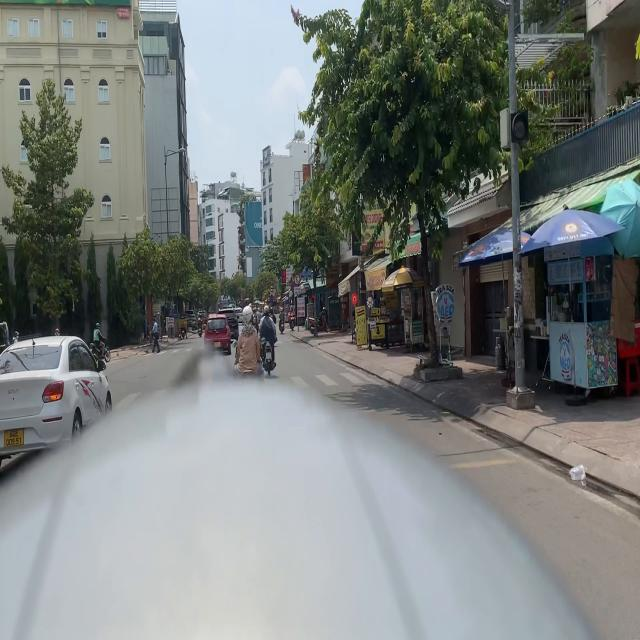Cam con lai: (269, 284, 274, 292)
Cam do: (270, 294, 274, 302)
Cam re phai: (294, 274, 300, 286)
